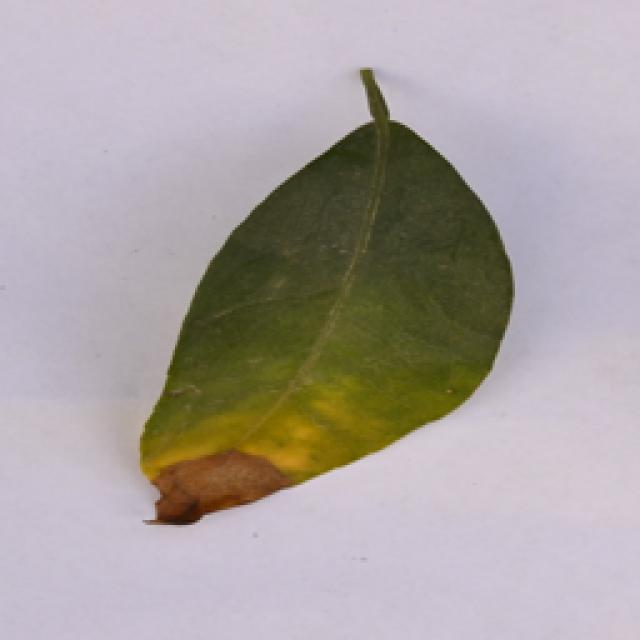canker: (140, 70, 512, 522)
